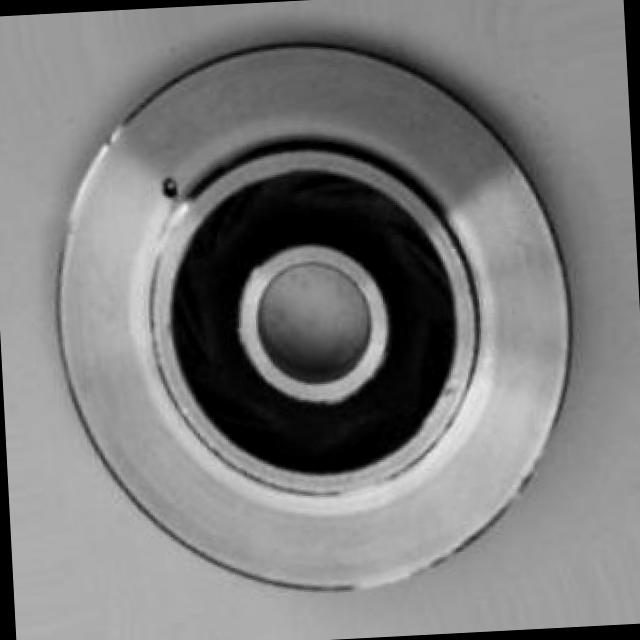Defect: (158, 172, 182, 200)
